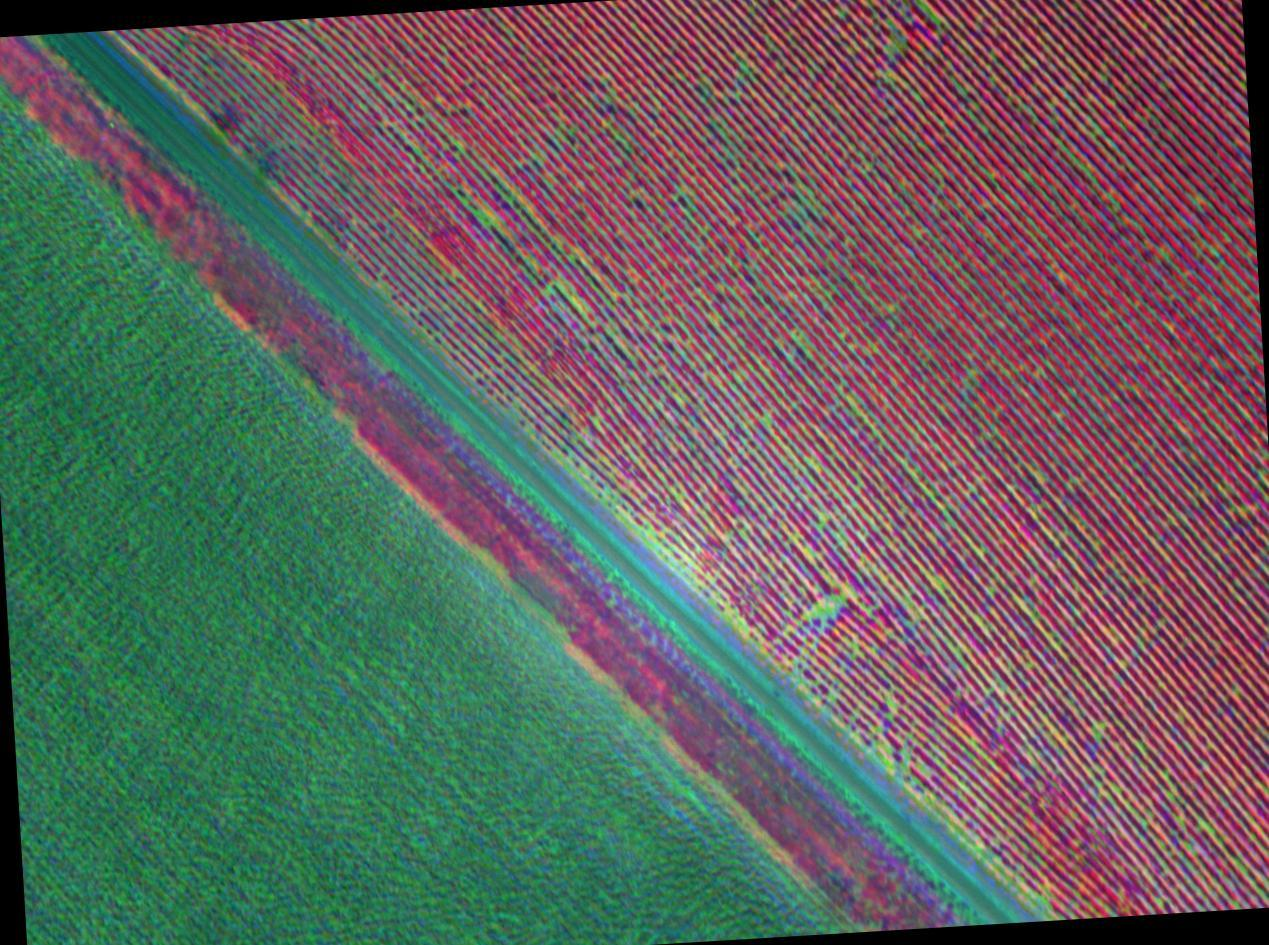dc: (475, 211, 489, 221), (874, 744, 885, 753), (886, 44, 898, 52), (832, 598, 842, 607), (815, 604, 825, 612), (1093, 729, 1103, 737), (544, 288, 552, 294)
